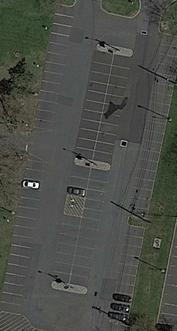parkingspot: (126, 32, 177, 220), (0, 158, 50, 316), (31, 4, 78, 132), (68, 166, 111, 289), (92, 53, 134, 166), (73, 50, 115, 162), (108, 223, 146, 326), (155, 220, 177, 331), (50, 213, 82, 285), (66, 162, 92, 200)
